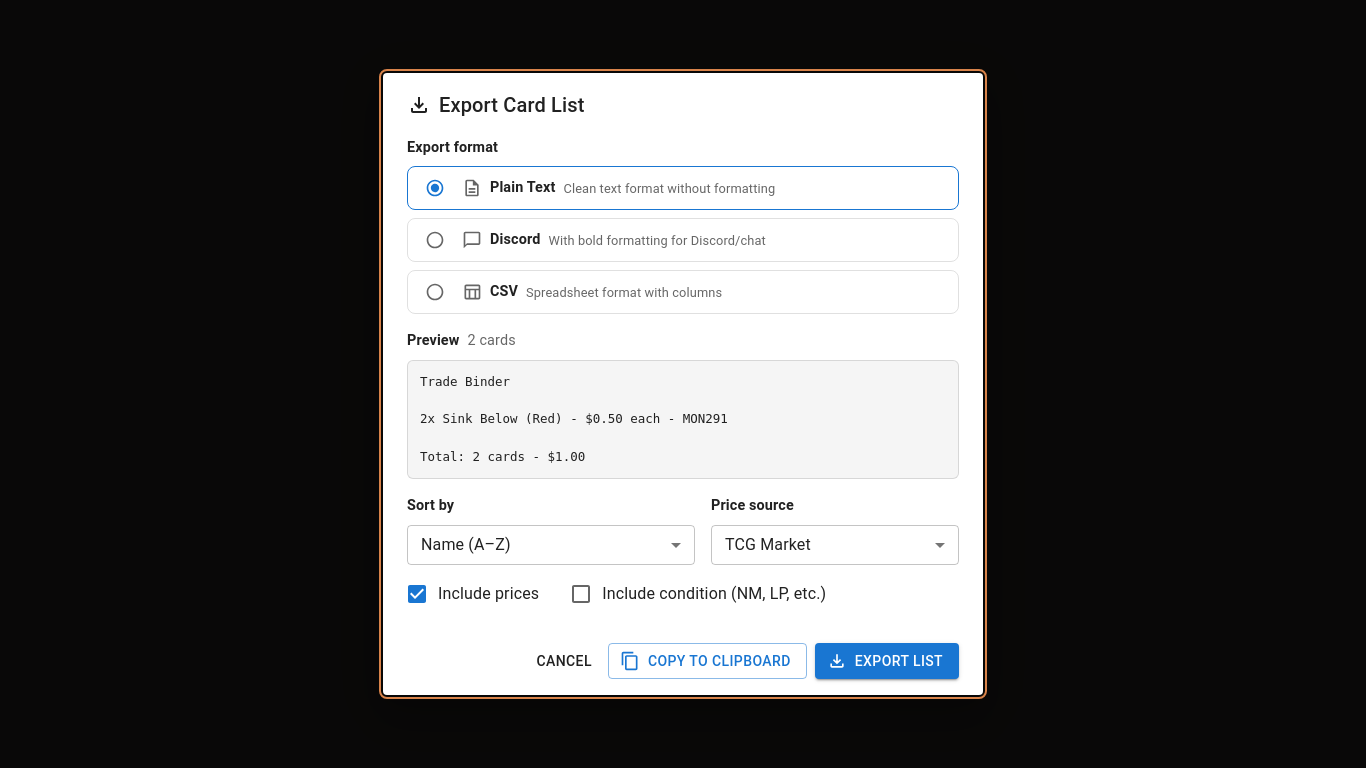
Test: BinderExportDialog › switches to Discord and adds condition
This screenshot has width=1366, height=768.
Click the radio button labelled "Discord With bold formatting for Discord/chat" at coordinates (683, 240), box 407,218 -> 959,262
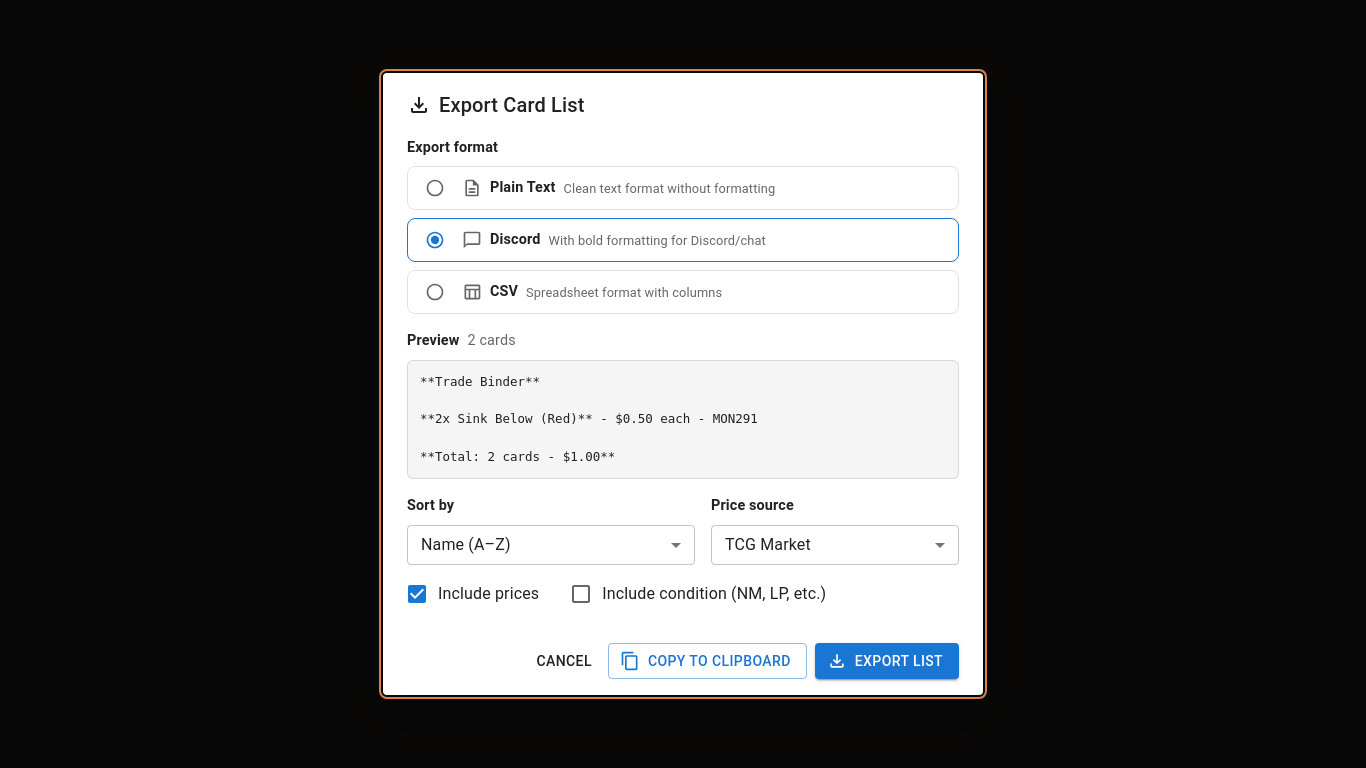
Click the checkbox with test id "binder-export-condition" at coordinates (698, 594), box 569,582 -> 826,606
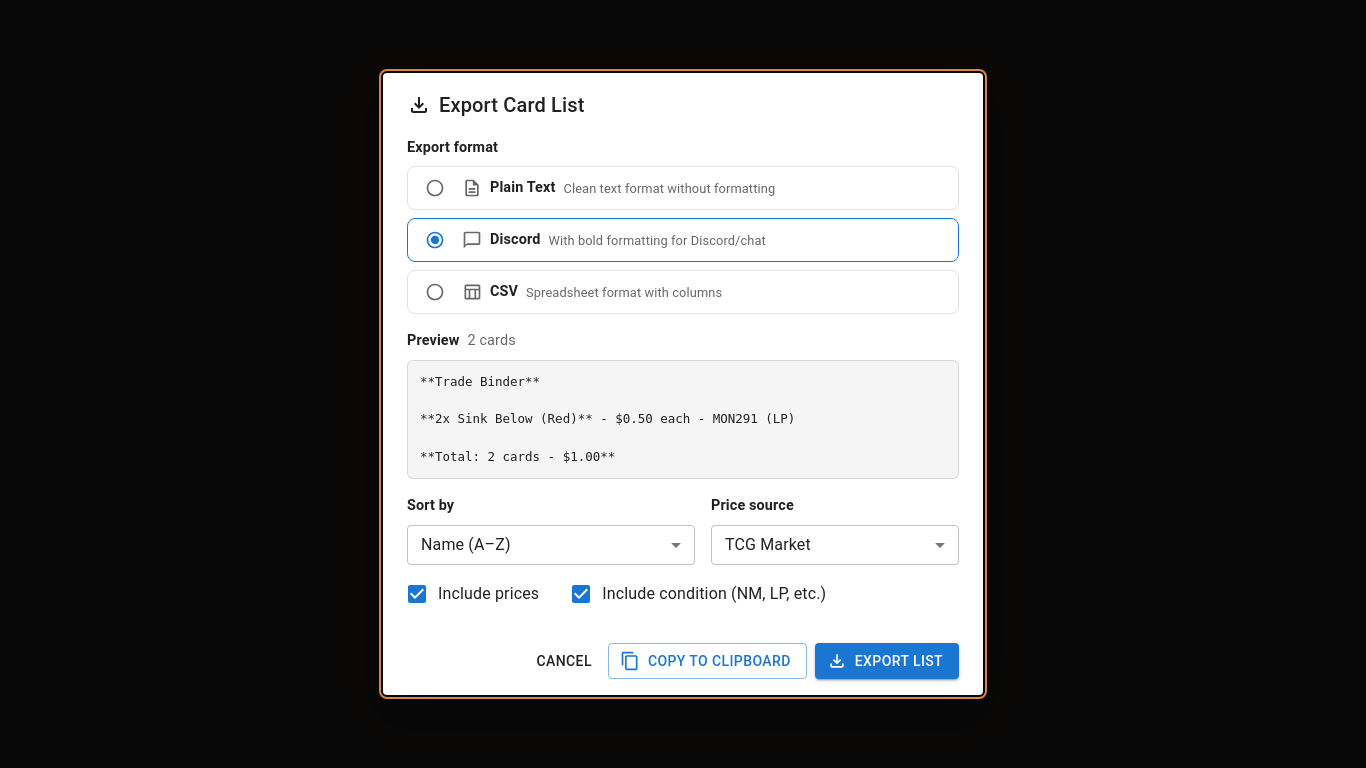
Expected: the text with test id "binder-export-preview" shows "**2x Sink Below (Red)** - $0.50 each - MON291 (LP)", 420,374 -> 795,464
